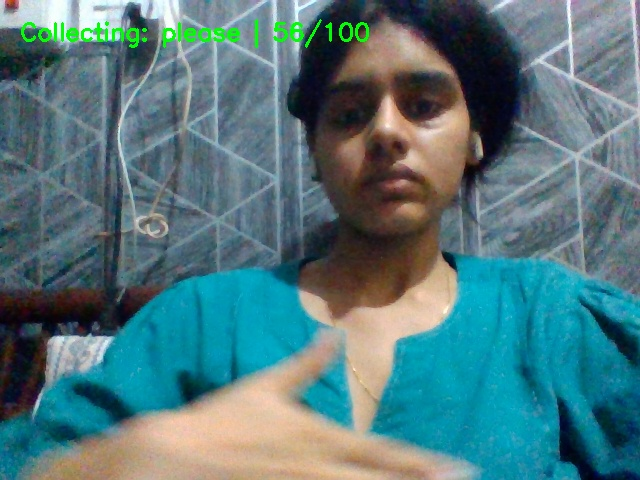please: (157, 324, 491, 480)
